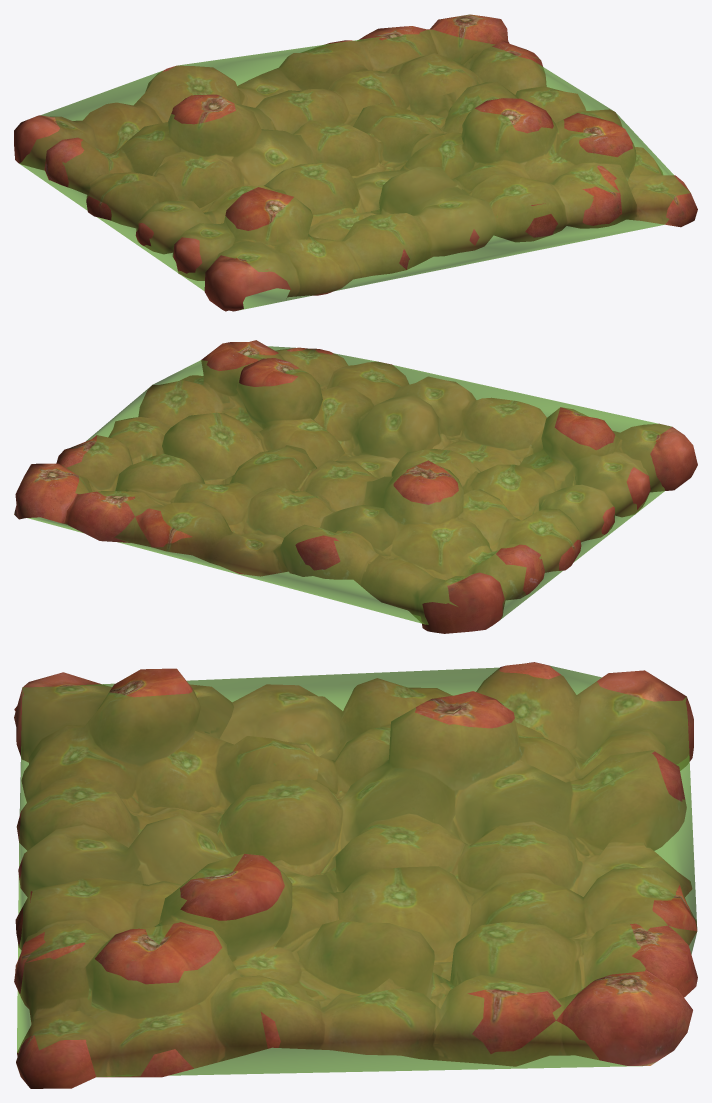
The model's file is pg_Tomato_Pile_01_a.fbx.
The picture shows the model from 3 angles, top to bottom: view 1: azimuth 30°, elevation 25°; view 2: azimuth 150°, elevation 25°; view 3: azimuth 270°, elevation 25°; orthographic projection. The views are drawn at different scales.
Parts seen in each view (by area): view 1: pg_Tomato_Pile_01_a_LOD0, pg_Tomato_Pile_01_a_col; view 2: pg_Tomato_Pile_01_a_LOD0, pg_Tomato_Pile_01_a_col; view 3: pg_Tomato_Pile_01_a_LOD0, pg_Tomato_Pile_01_a_col.
Part boxes in pixels (box(x1,y1,x2,y2)): pg_Tomato_Pile_01_a_LOD0: box(14, 14, 697, 311); pg_Tomato_Pile_01_a_col: box(19, 29, 690, 310); pg_Tomato_Pile_01_a_LOD0: box(14, 340, 697, 633); pg_Tomato_Pile_01_a_col: box(27, 346, 671, 624); pg_Tomato_Pile_01_a_LOD0: box(14, 662, 697, 1088); pg_Tomato_Pile_01_a_col: box(17, 665, 697, 1077).
Size of what is drawn, in the model's own units: 58.8 by 11 by 48.24.
